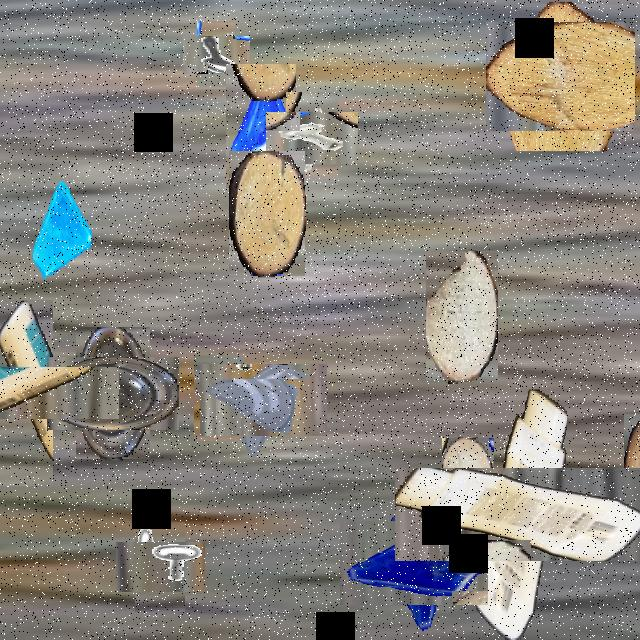glass: (356, 505, 472, 622), (213, 350, 313, 450), (226, 64, 296, 188), (33, 182, 91, 284)
metal: (276, 102, 348, 175), (125, 532, 195, 602), (194, 355, 242, 441), (190, 29, 242, 81)
plastic: (433, 428, 604, 600), (62, 342, 165, 444), (0, 333, 86, 452)
wood: (496, 12, 626, 141), (229, 151, 305, 276), (426, 251, 498, 382), (442, 438, 494, 526), (596, 442, 640, 514)
